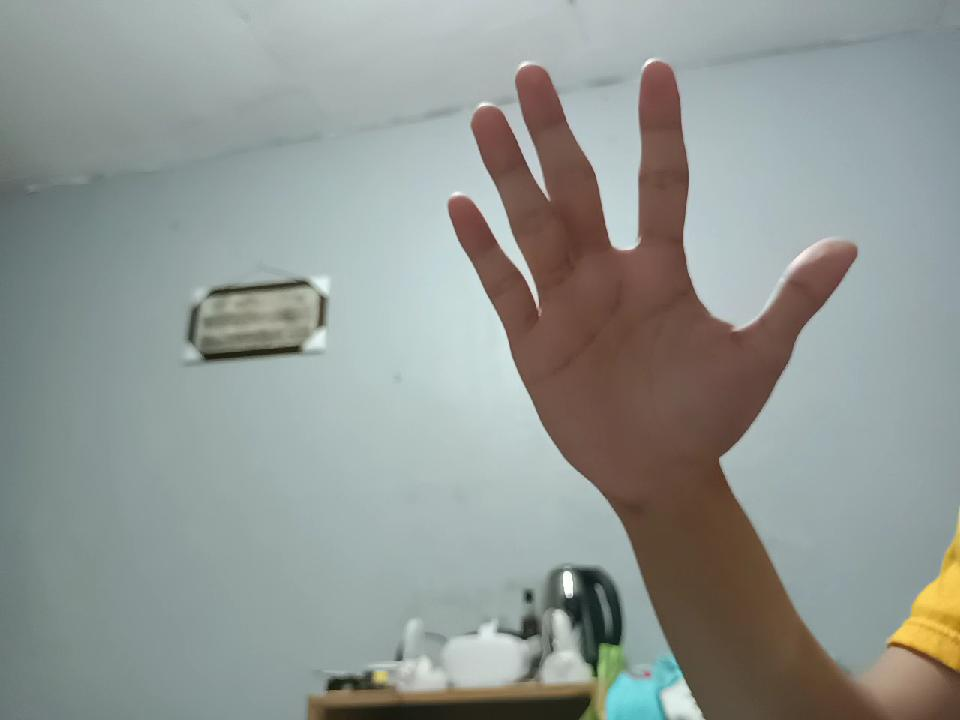paper: (451, 66, 824, 503)
